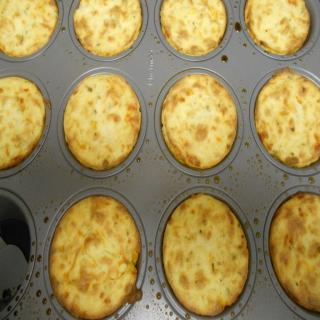Muffin: (49, 193, 143, 320), (163, 193, 250, 318), (159, 72, 239, 172), (65, 74, 142, 171), (253, 66, 320, 172), (266, 193, 320, 314), (0, 77, 48, 170), (66, 5, 142, 59), (240, 0, 310, 58), (159, 0, 228, 57), (0, 0, 59, 58)
